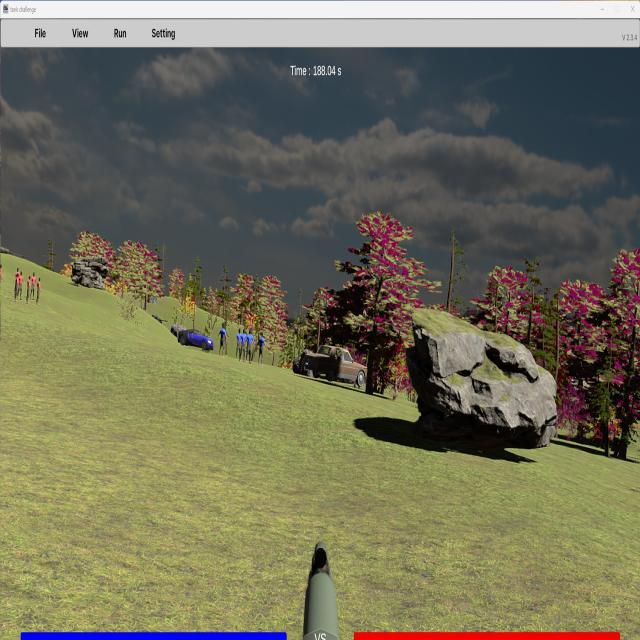car: (304, 345, 370, 385), (178, 328, 214, 351)
